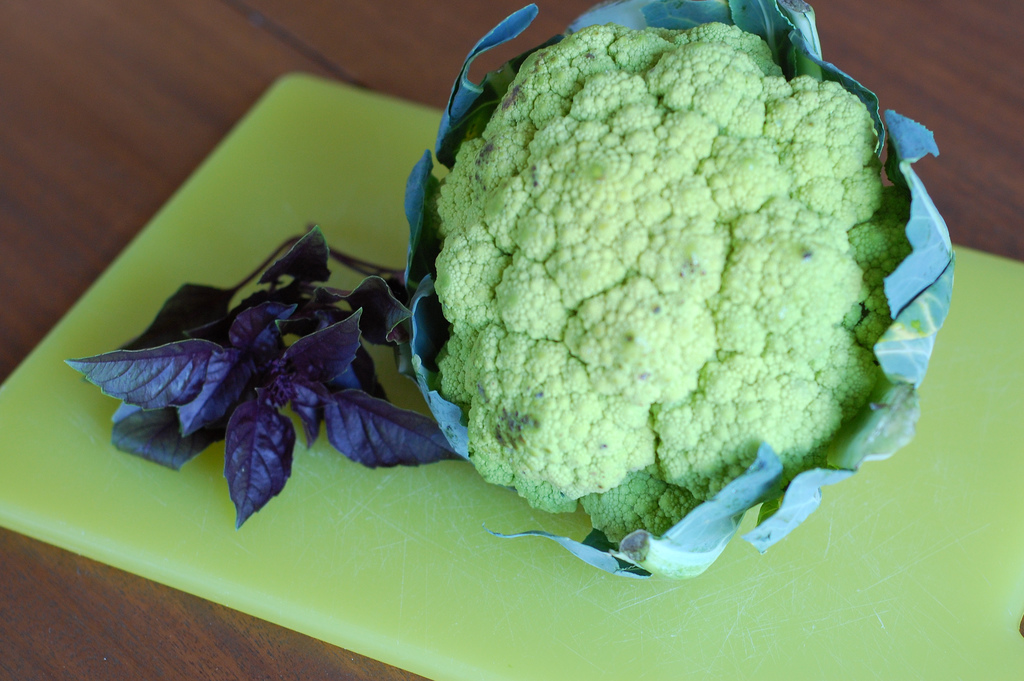cauliflower: (431, 25, 935, 543)
